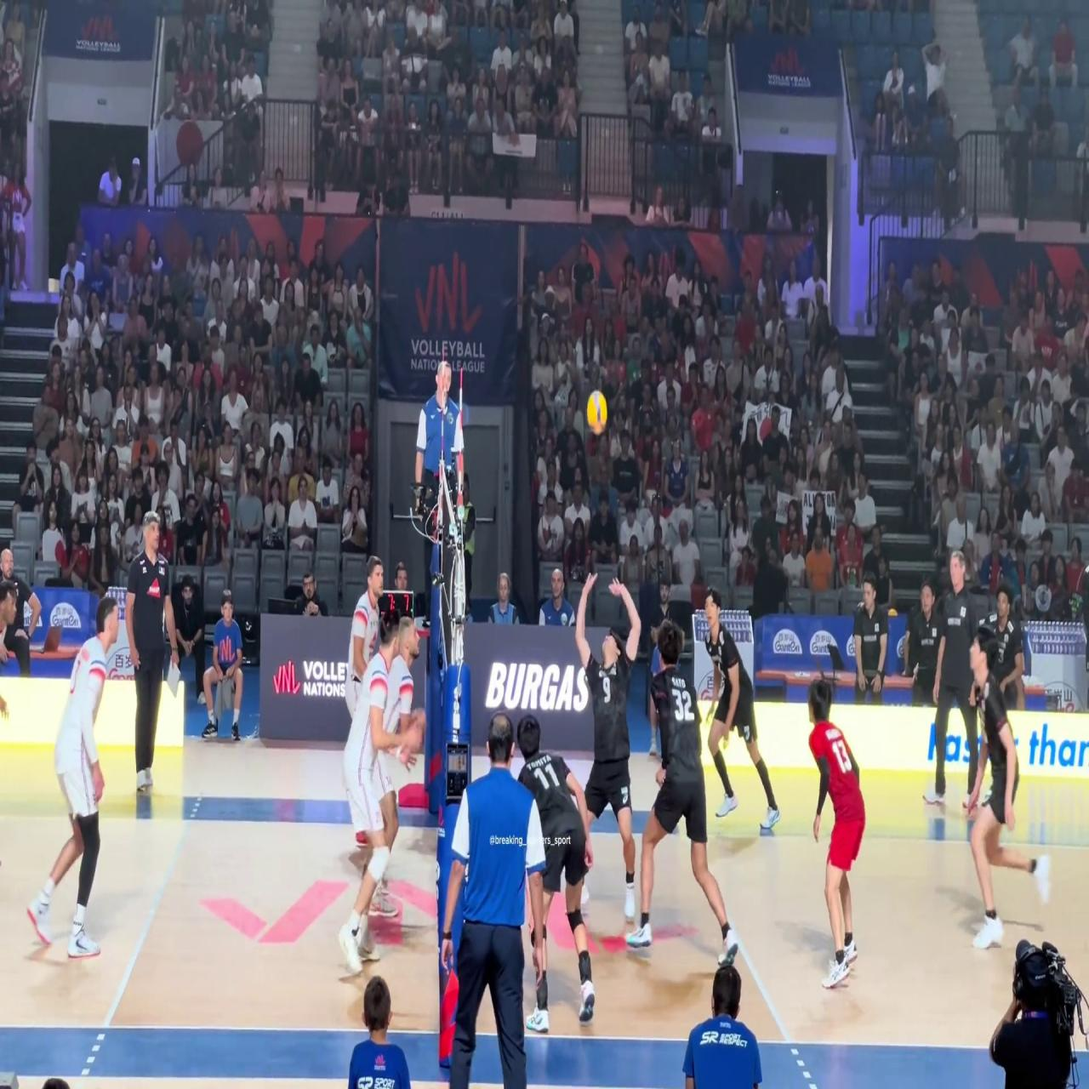ball: (586, 391, 607, 433)
